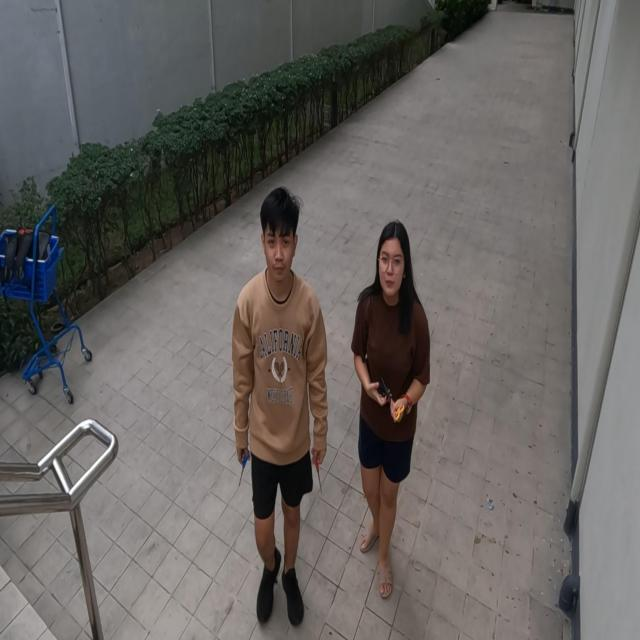scissor: (311, 446, 323, 494), (238, 447, 251, 488), (379, 375, 394, 405), (390, 395, 404, 422)
